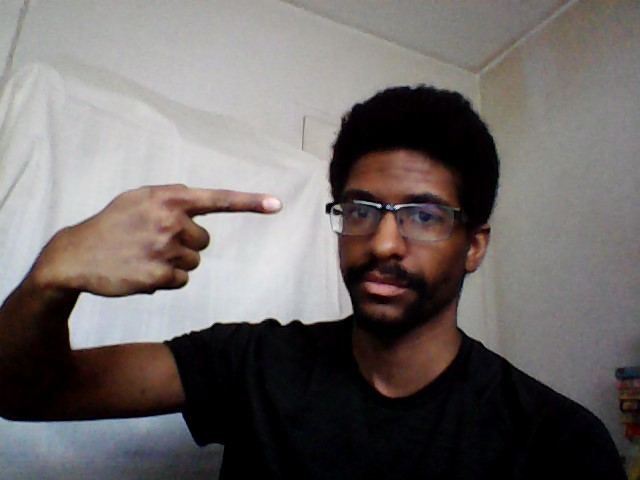g: (63, 176, 287, 300)
